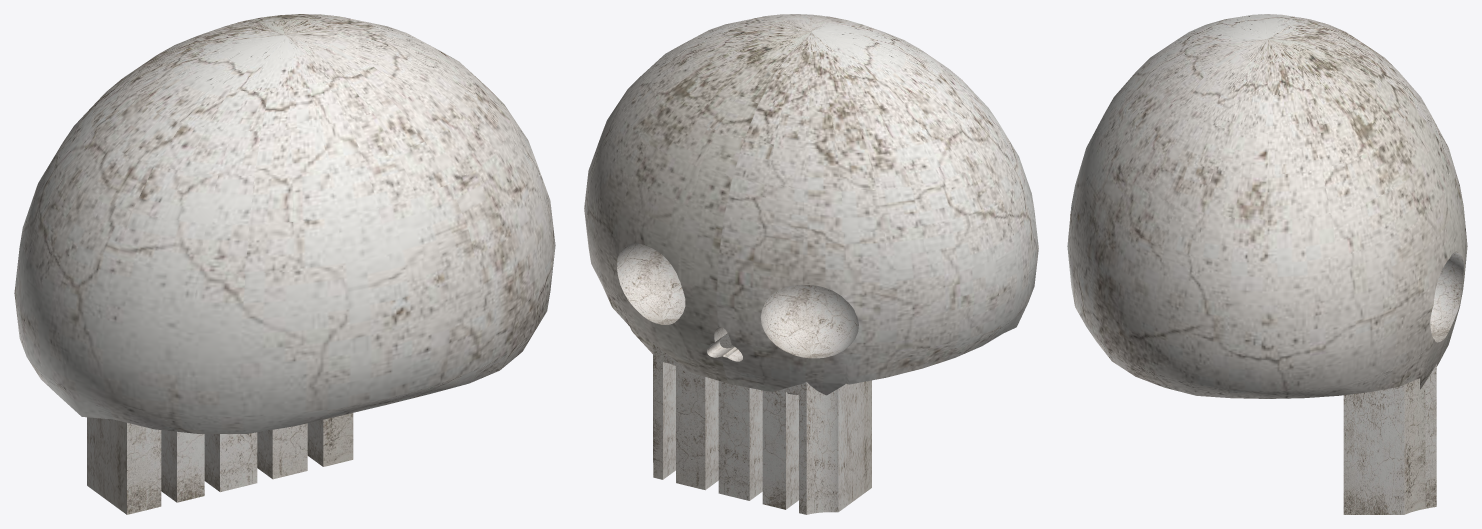
The model's file is Skull Textured.fbx.
The picture shows the model from 3 angles, left to right: view 1: azimuth 30°, elevation 25°; view 2: azimuth 150°, elevation 25°; view 3: azimuth 270°, elevation 25°; orthographic projection. The views are drawn at different scales.
Parts seen in each view (by area): view 1: Box001; view 2: Box001; view 3: Box001.
Part boxes in pixels (x1,y1,x2,y2): Box001: [14, 14, 555, 514]; Box001: [584, 14, 1038, 514]; Box001: [1067, 14, 1467, 514].
Size of the model in its own units: 227 by 213 by 180.
Materials: 1 (1 with a texture image).
